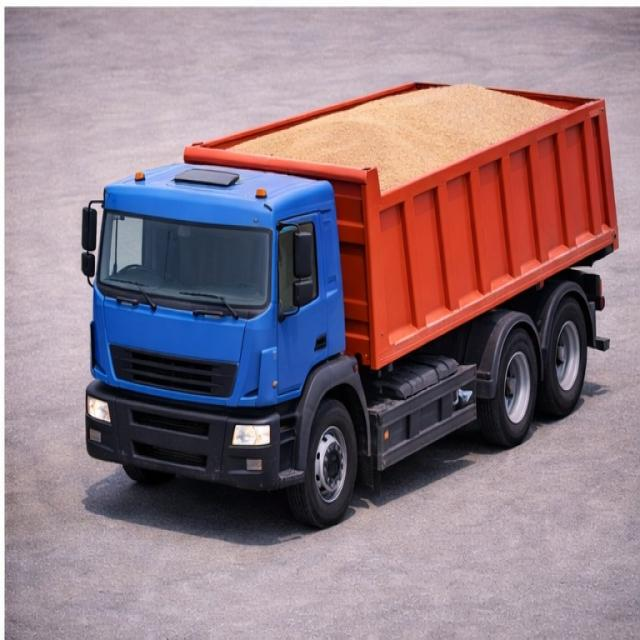Box: (182, 79, 604, 186)
Truck: (71, 66, 618, 485)
